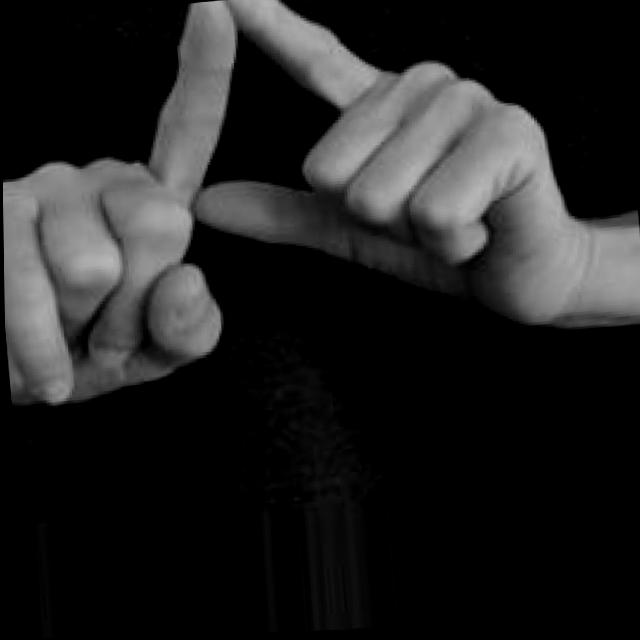D: (0, 0, 640, 418)
